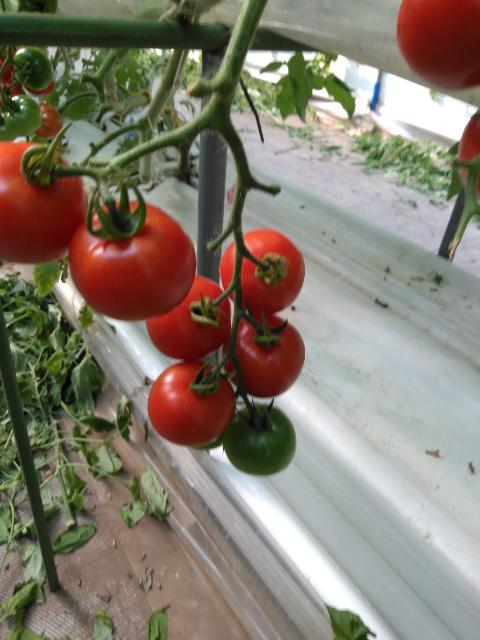l_fully_ripened: (67, 200, 197, 321), (0, 141, 88, 264), (147, 359, 236, 447), (396, 0, 480, 91), (219, 228, 305, 315), (145, 275, 231, 361), (220, 313, 306, 398)
l_green: (221, 403, 297, 477), (12, 47, 54, 91), (2, 94, 42, 137)
l_half_ripened: (33, 103, 63, 138)
